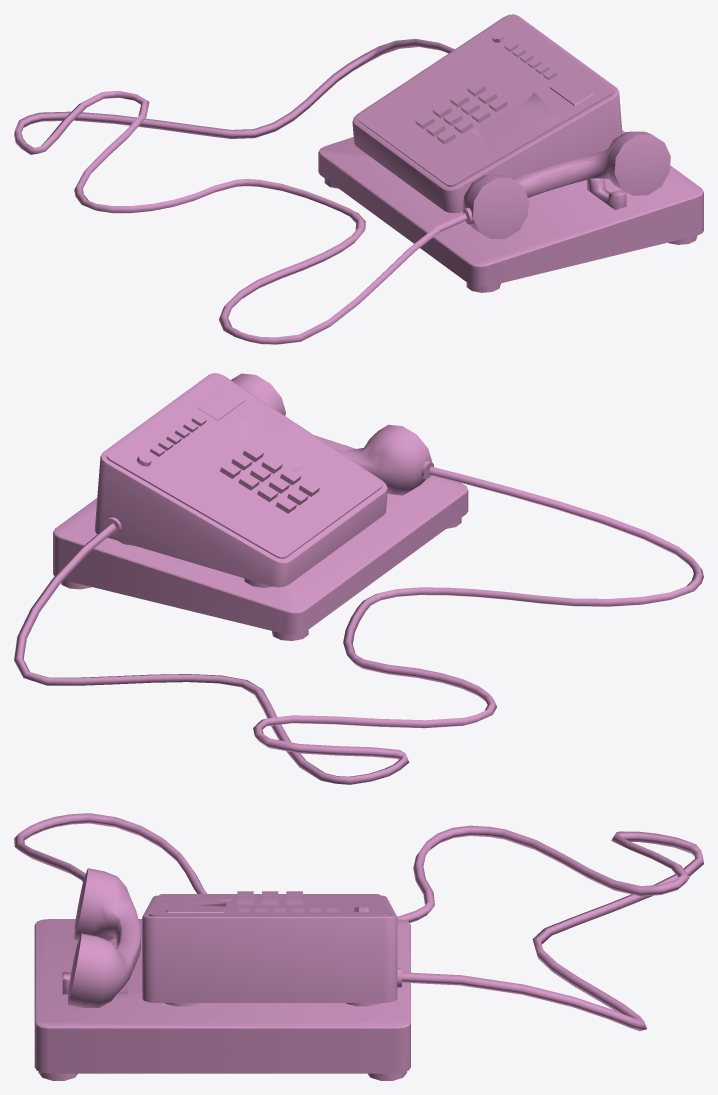
The model's file is phone.fbx.
3 views of the same model, one above another, from view 1: azimuth 30°, elevation 25°; view 2: azimuth 150°, elevation 25°; view 3: azimuth 270°, elevation 25° (orthographic). The views are drawn at different scales.
Parts seen in each view (by area): view 1: phone; view 2: phone; view 3: phone.
Part boxes in pixels (<box>): phone: <box>14,14,703,344</box>; phone: <box>14,373,703,784</box>; phone: <box>14,813,703,1080</box>.
Bounding box in the file's own units: 0.4109 × 0.1058 × 0.4606.
